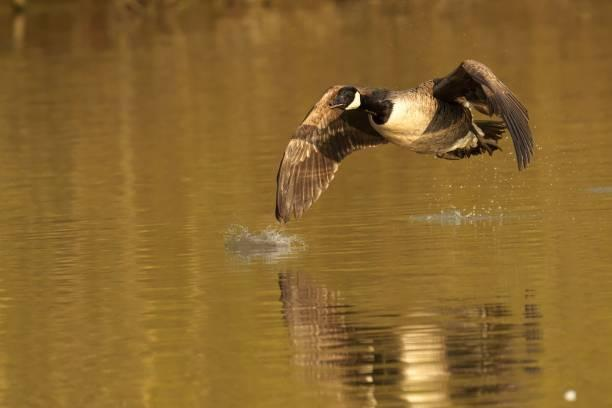Canadian-Goose: (271, 58, 539, 221)
